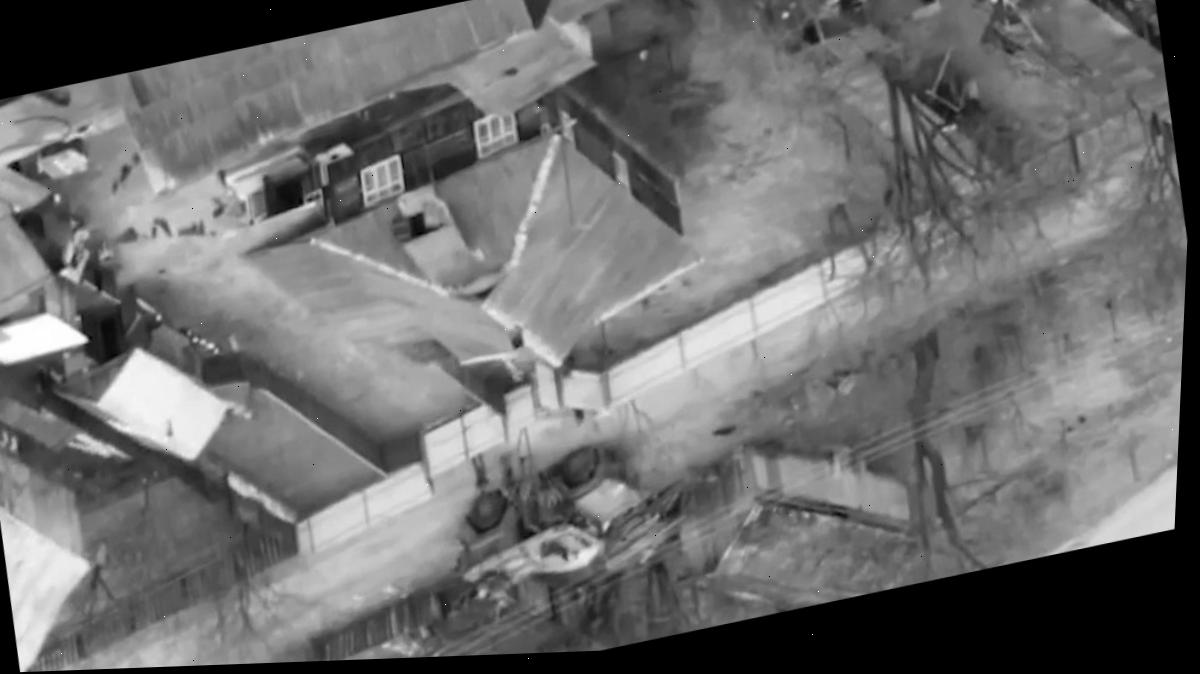armored_car: (436, 435, 661, 608)
person: (487, 438, 520, 506), (509, 443, 542, 508), (463, 449, 495, 497)
